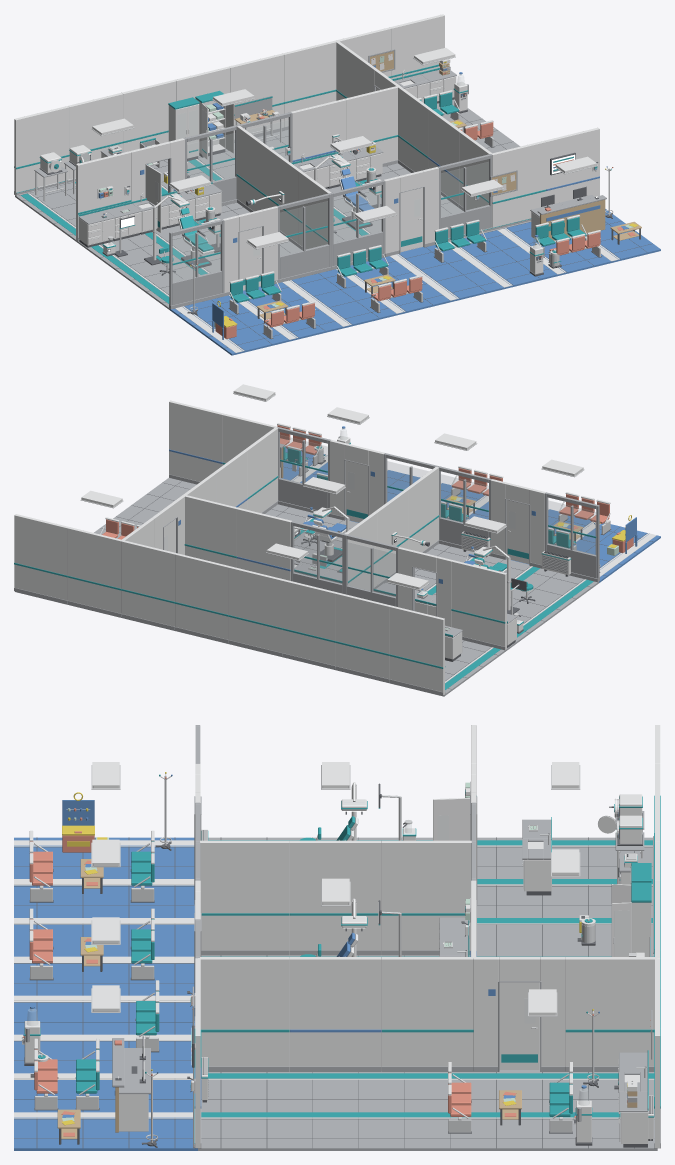
Rendered from whole-clinic-starter-v1.glb.
The picture shows the model from 3 angles, top to bottom: view 1: azimuth 30°, elevation 25°; view 2: azimuth 150°, elevation 25°; view 3: azimuth 270°, elevation 25°; orthographic projection. The views are drawn at different scales.
Parts seen in each view (by area): view 1: 070-corridor-wall-module/0, 062-corridor-wall-module/0, 075-corridor-wall-module/0, 069-corridor-wall-module/0, 072-corridor-wall-module/0, 064-corridor-wall-module/0, 063-corridor-wall-module-blue/0, 068-corridor-wall-module-blue/0, 071-corridor-wall-module/0, 074-corridor-wall-module/0, 060-surgery-door-module/0, 056-glazed-partition-module/0 (+60 smaller); view 2: 070-corridor-wall-module/0, 064-corridor-wall-module/0, 073-corridor-wall-module/0, 076-corridor-wall-module/0, 074-corridor-wall-module/0, 077-corridor-wall-module/0, 071-corridor-wall-module/0, 075-corridor-wall-module/0, 072-corridor-wall-module/0, 063-corridor-wall-module-blue/0, 069-corridor-wall-module/0, 068-corridor-wall-module-blue/0 (+40 smaller); view 3: 080-corridor-wall-module/0, 081-corridor-wall-module-blue/0, 085-corridor-wall-module/0, 082-corridor-wall-module/0, 078-corridor-wall-module/0, 083-corridor-wall-module/0, 084-corridor-wall-module/0, 079-surgery-door-module/0, 038-clinical-floor-tile/0, 039-clinical-floor-tile/0, 037-clinical-floor-tile/0, 036-clinical-floor-tile/0 (+61 smaller).
Boxes of the visible parts, left/top/right/bottom form: 070-corridor-wall-module/0: left=14, top=106, right=69, bottom=195; 062-corridor-wall-module/0: left=491, top=140, right=546, bottom=227; 075-corridor-wall-module/0: left=282, top=40, right=336, bottom=126; 069-corridor-wall-module/0: left=344, top=86, right=398, bottom=163; 072-corridor-wall-module/0: left=121, top=79, right=176, bottom=152; 064-corridor-wall-module/0: left=76, top=151, right=131, bottom=240; 063-corridor-wall-module-blue/0: left=545, top=127, right=599, bottom=205; 068-corridor-wall-module-blue/0: left=291, top=99, right=345, bottom=164; 071-corridor-wall-module/0: left=68, top=93, right=123, bottom=179; 074-corridor-wall-module/0: left=229, top=53, right=283, bottom=139; 060-surgery-door-module/0: left=384, top=167, right=438, bottom=253; 056-glazed-partition-module/0: left=169, top=219, right=224, bottom=309; 070-corridor-wall-module/0: left=389, top=605, right=444, bottom=695; 064-corridor-wall-module/0: left=451, top=560, right=506, bottom=649; 073-corridor-wall-module/0: left=228, top=566, right=283, bottom=652; 076-corridor-wall-module/0: left=67, top=527, right=122, bottom=613; 074-corridor-wall-module/0: left=175, top=553, right=229, bottom=639; 077-corridor-wall-module/0: left=14, top=514, right=68, bottom=600; 071-corridor-wall-module/0: left=336, top=592, right=390, bottom=678; 075-corridor-wall-module/0: left=121, top=540, right=176, bottom=626; 072-corridor-wall-module/0: left=282, top=579, right=337, bottom=665; 063-corridor-wall-module-blue/0: left=169, top=400, right=223, bottom=481; 069-corridor-wall-module/0: left=184, top=495, right=238, bottom=567; 068-corridor-wall-module-blue/0: left=237, top=508, right=291, bottom=580; 080-corridor-wall-module/0: left=381, top=957, right=473, bottom=1070; 081-corridor-wall-module-blue/0: left=290, top=957, right=381, bottom=1066; 085-corridor-wall-module/0: left=200, top=840, right=289, bottom=954; 082-corridor-wall-module/0: left=198, top=957, right=289, bottom=1071; 078-corridor-wall-module/0: left=565, top=957, right=657, bottom=1066; 083-corridor-wall-module/0: left=381, top=840, right=471, bottom=954; 084-corridor-wall-module/0: left=290, top=840, right=381, bottom=950; 079-surgery-door-module/0: left=473, top=957, right=565, bottom=1071; 038-clinical-floor-tile/0: left=290, top=1109, right=381, bottom=1150; 039-clinical-floor-tile/0: left=198, top=1109, right=289, bottom=1150; 037-clinical-floor-tile/0: left=381, top=1109, right=473, bottom=1150; 036-clinical-floor-tile/0: left=473, top=1109, right=565, bottom=1150.
Bounding box in the file's own units: 16 × 2.76 × 14.07.
